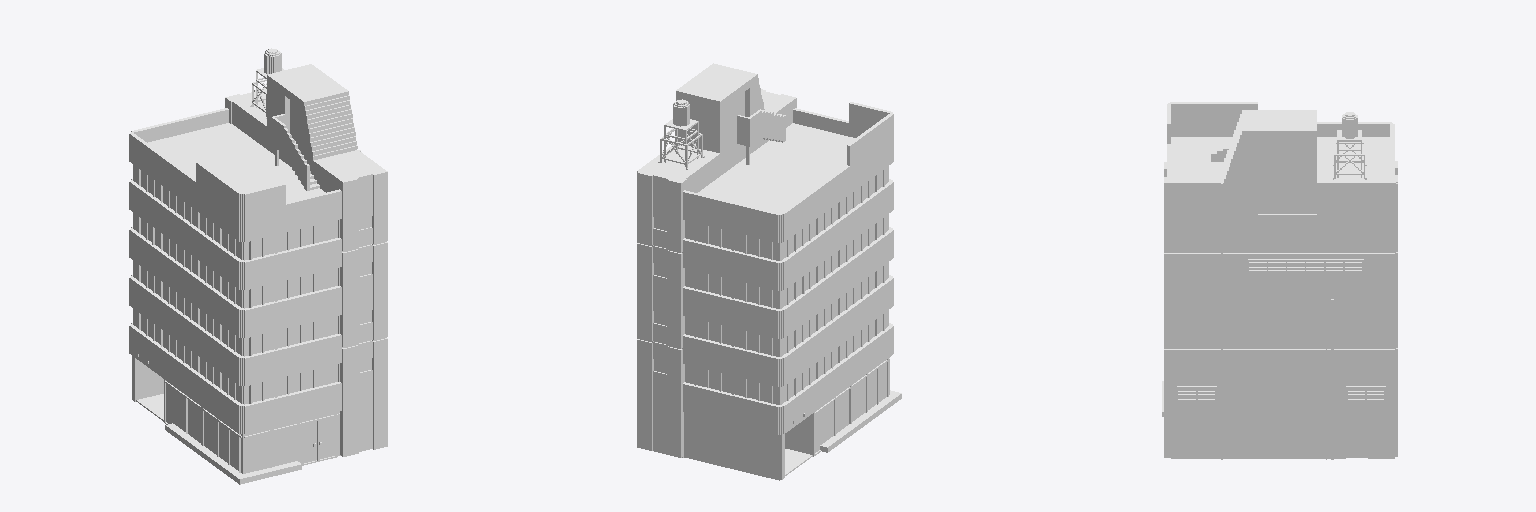
Rendered from GDS2_Business-0.obj.
3 views of the same model, side by side, from view 1: azimuth 30°, elevation 25°; view 2: azimuth 150°, elevation 25°; view 3: azimuth 270°, elevation 25° (orthographic).
Visible parts, largest first — view 1: GDS2_Business-0; view 2: GDS2_Business-0; view 3: GDS2_Business-0.
Part boxes in pixels (x1,y1,x2,y2): GDS2_Business-0: (129,48,387,484); GDS2_Business-0: (637,63,901,480); GDS2_Business-0: (1162,102,1397,459).
Bounding box in the file's own units: 11.8 × 25.1 × 16.